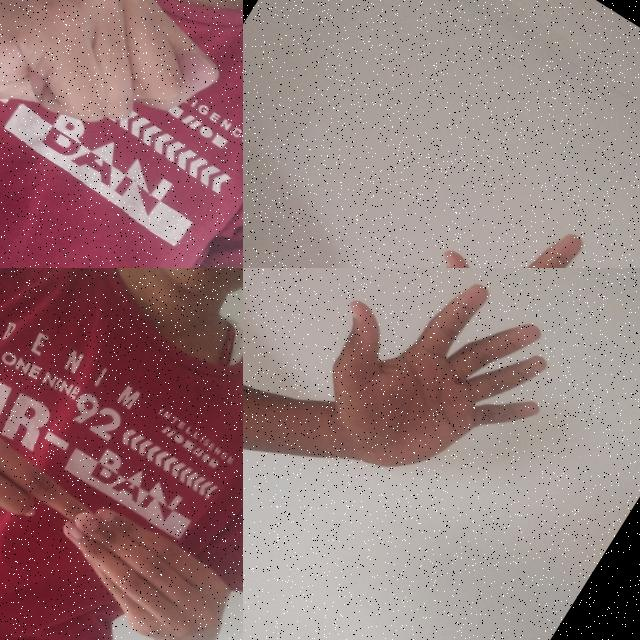Dulya: (0, 0, 243, 242)
Five Fathers: (0, 357, 243, 640)
Moutza: (270, 268, 587, 540), (364, 173, 640, 268)
